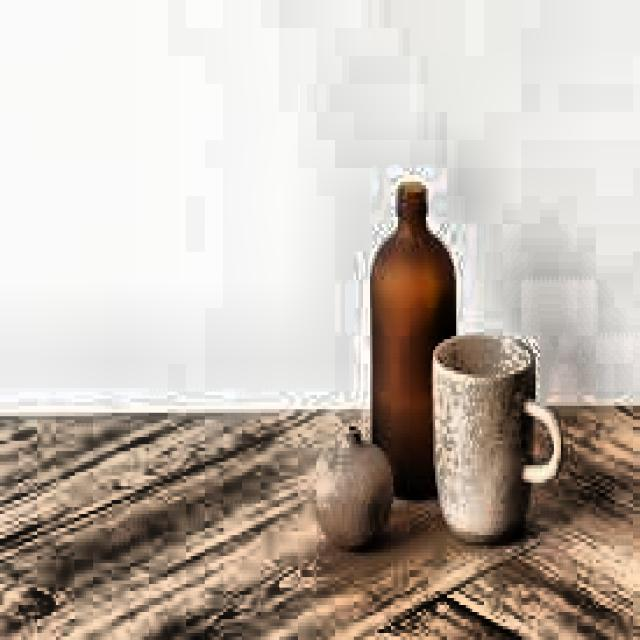Bottle: (368, 175, 456, 496)
